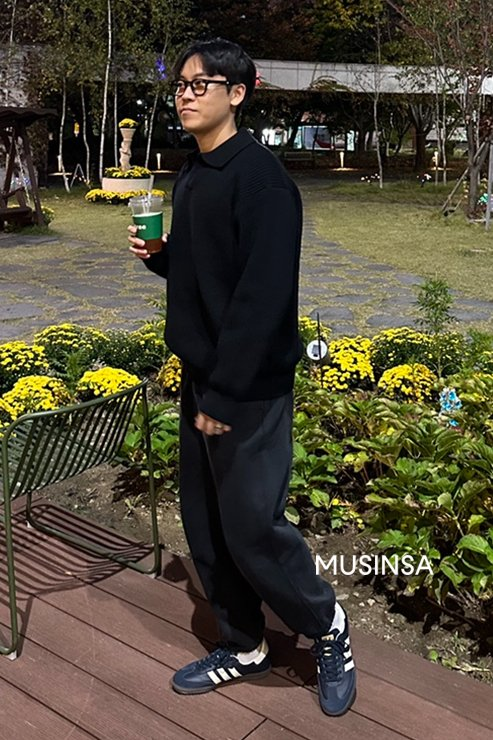Glasses: (167, 75, 239, 99)
Pants: (176, 375, 350, 654)
Shoes: (160, 616, 368, 716)
Top: (146, 126, 309, 403)
